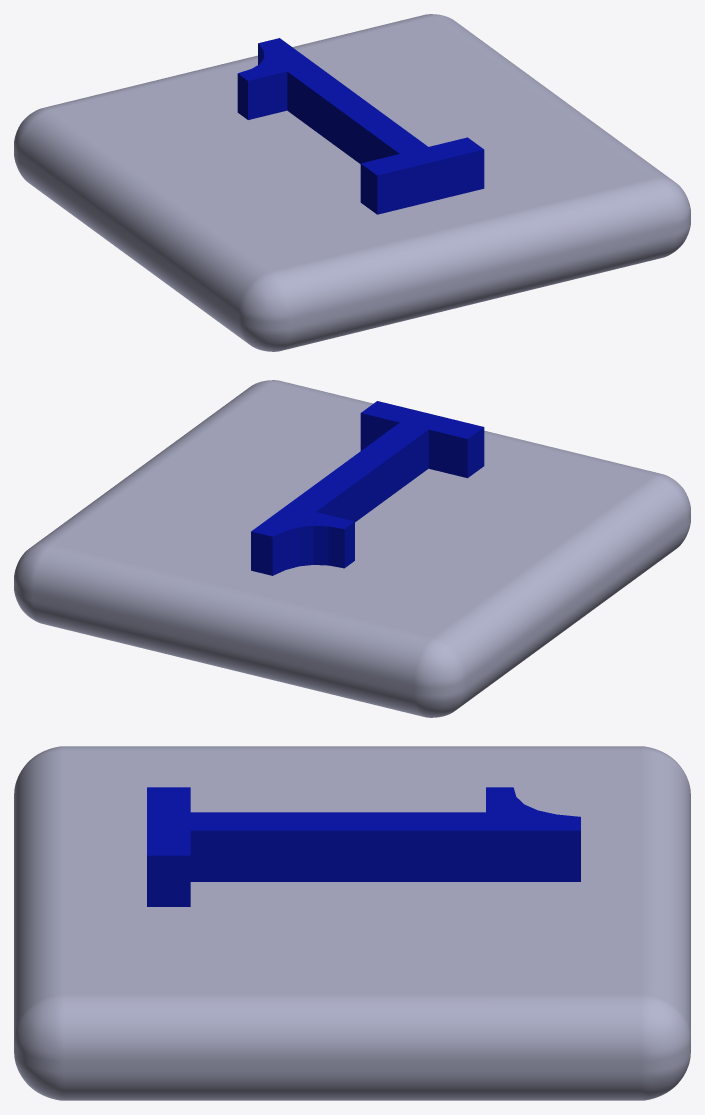
Rendered from button1.glb.
The picture shows the model from 3 angles, top to bottom: view 1: azimuth 30°, elevation 25°; view 2: azimuth 150°, elevation 25°; view 3: azimuth 270°, elevation 25°; orthographic projection. The views are drawn at different scales.
Visible parts, largest first — view 1: Box, 3D Text - 1; view 2: Box, 3D Text - 1; view 3: Box, 3D Text - 1.
Part boxes in pixels (x1=…): Box: x1=14, y1=14, x2=690, y2=351; 3D Text - 1: x1=237, y1=38, x2=484, y2=214; Box: x1=14, y1=380, x2=690, y2=717; 3D Text - 1: x1=251, y1=401, x2=484, y2=575; Box: x1=14, y1=746, x2=690, y2=1100; 3D Text - 1: x1=147, y1=787, x2=580, y2=906.
Bounding box in the file's own units: 0.1 × 0.0249 × 0.1.
